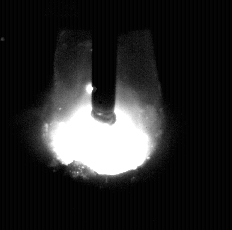arame: (93, 0, 118, 125)
poca: (40, 0, 164, 230)
